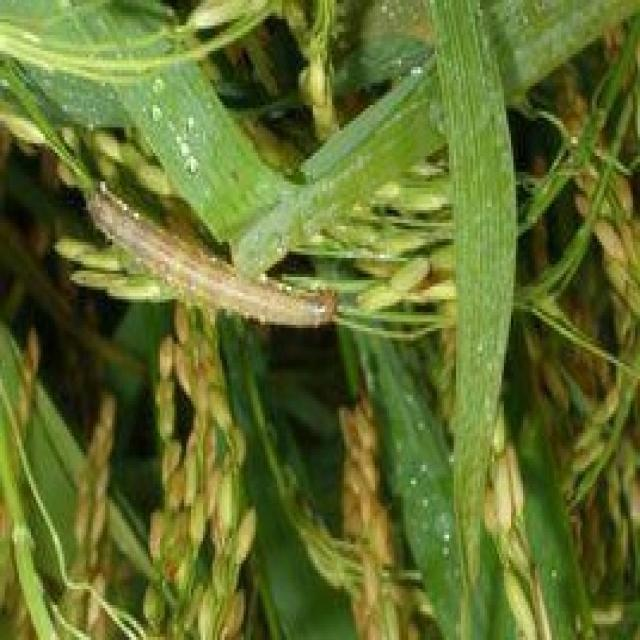army worm: (82, 171, 340, 334)
